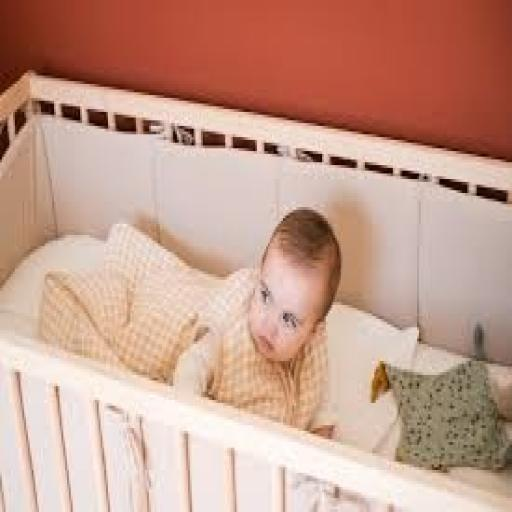baby: (174, 208, 340, 436)
crib: (0, 73, 511, 363)
